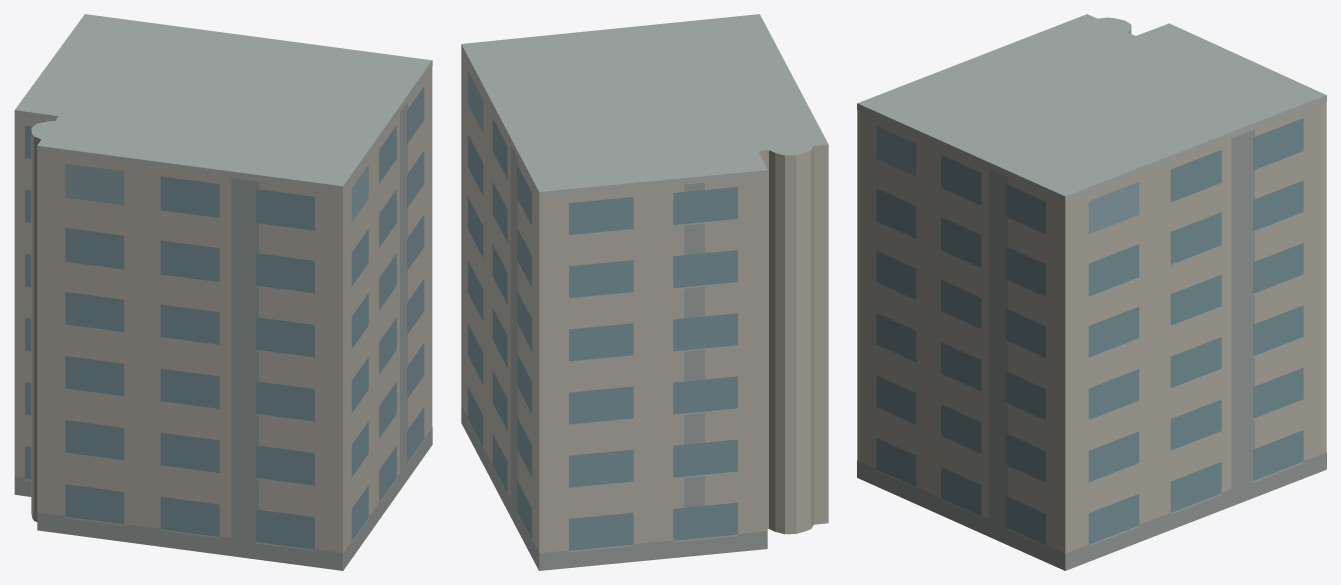
File: survey-upis-32892718.glb
3 renders of one model, left to right at view 1: azimuth 30°, elevation 25°; view 2: azimuth 150°, elevation 25°; view 3: azimuth 270°, elevation 25°, orthographic. The views are drawn at different scales.
Visible parts, largest first — view 1: survey-upis-32892718.tmp; view 2: survey-upis-32892718.tmp; view 3: survey-upis-32892718.tmp.
Boxes of the visible parts, x1,y1,x2,y2 form: survey-upis-32892718.tmp: [14, 14, 432, 570]; survey-upis-32892718.tmp: [461, 14, 828, 570]; survey-upis-32892718.tmp: [857, 14, 1326, 570].
Size of the model in its own units: 14.95 by 14.3 by 16.26.
